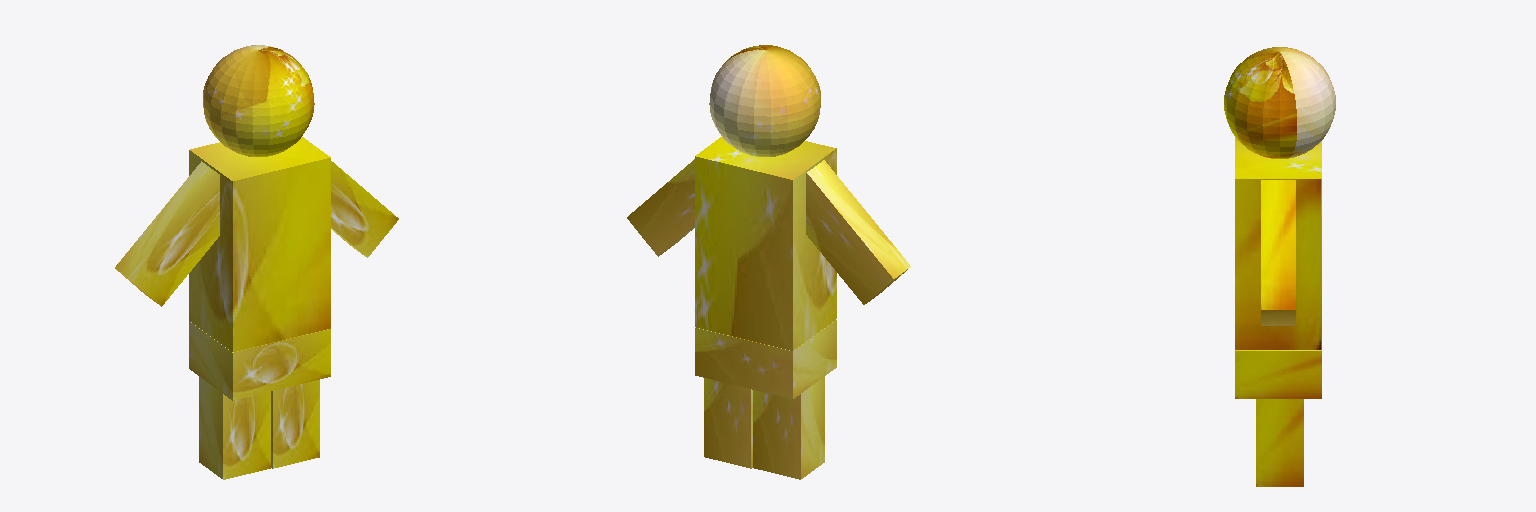
3 views of the same model, side by side, from view 1: azimuth 30°, elevation 25°; view 2: azimuth 150°, elevation 25°; view 3: azimuth 270°, elevation 25° (orthographic).
Parts seen in each view (by area): view 1: pCube7; view 2: pCube7; view 3: pCube7.
Part boxes in pixels (x1,y1,x2,y2): pCube7: (115,45,398,479); pCube7: (627,45,910,479); pCube7: (1224,47,1335,486).
Bounding box in the file's own units: 5.3 × 7.77 × 1.93.
Materials: 1 (1 with a texture image).